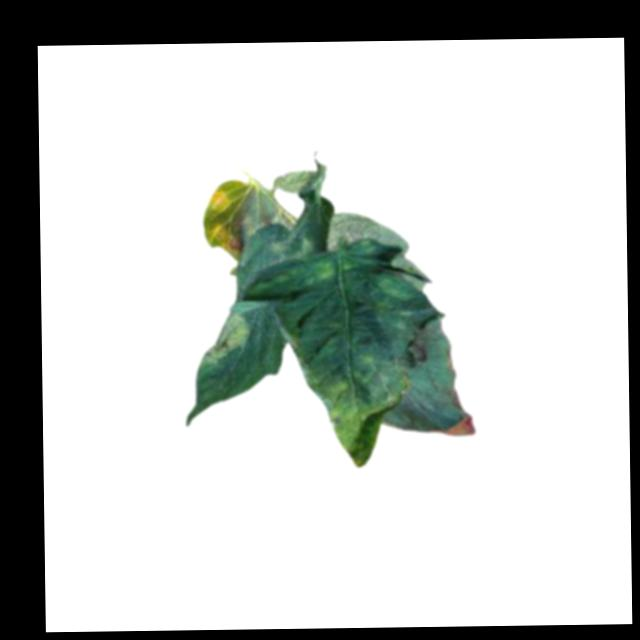Leaf_Mold: (201, 180, 246, 260), (199, 310, 253, 364), (399, 315, 448, 373), (316, 212, 384, 252)
